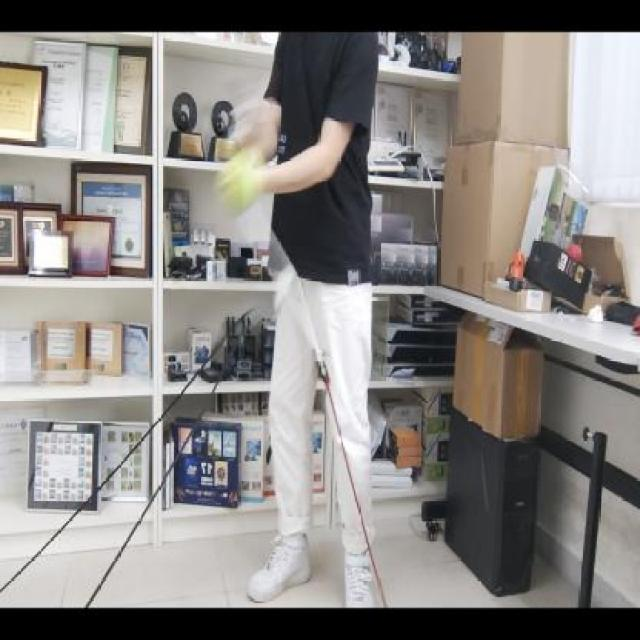baseball: (210, 144, 268, 219)
